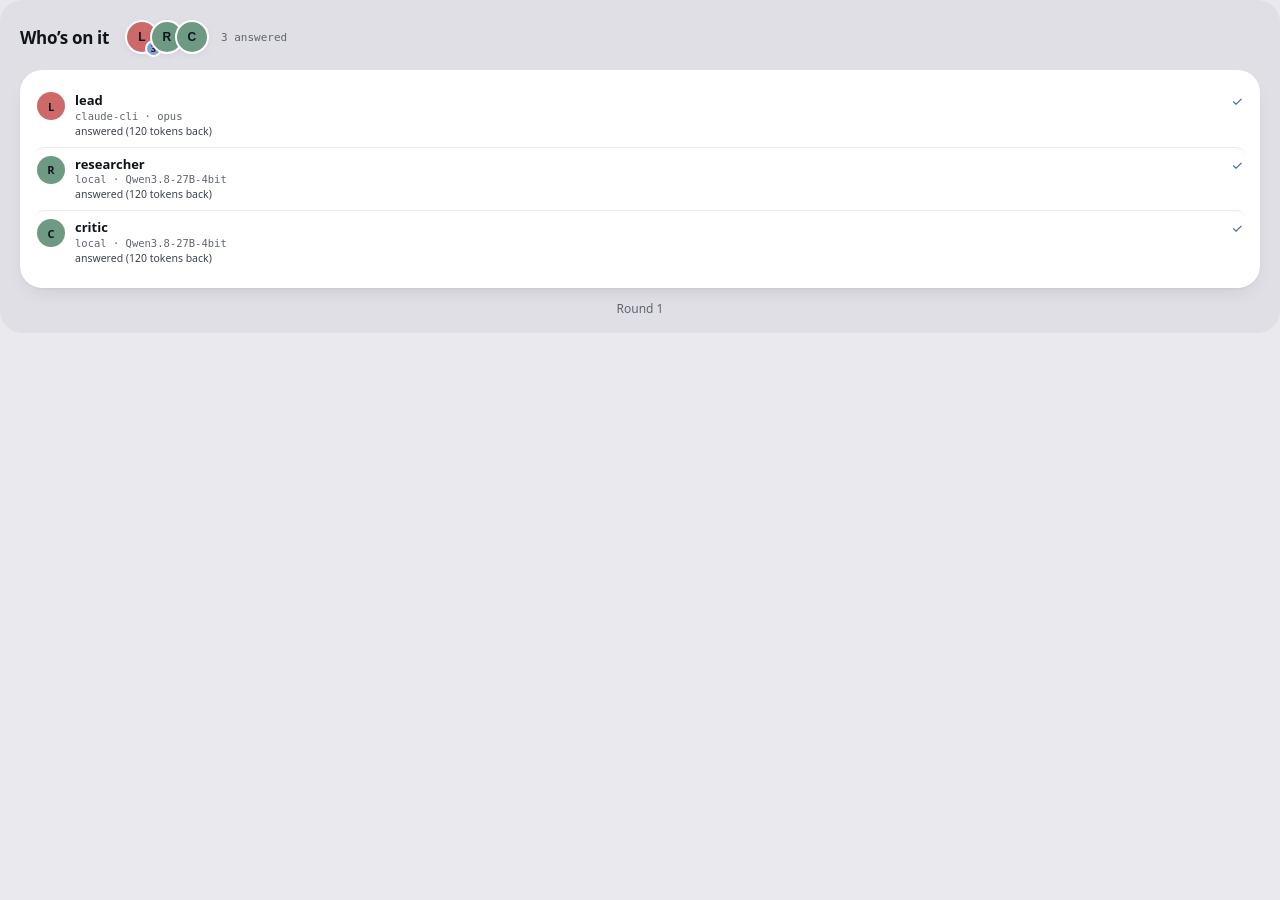
Scenario: clicking a coworker opens what THAT coworker is doing › closes on the close button and on Escape
The image size is (1280, 900).
Click the button named "What critic is doing". click: (196, 37)
box: x1=184 y1=20 x2=209 y2=54
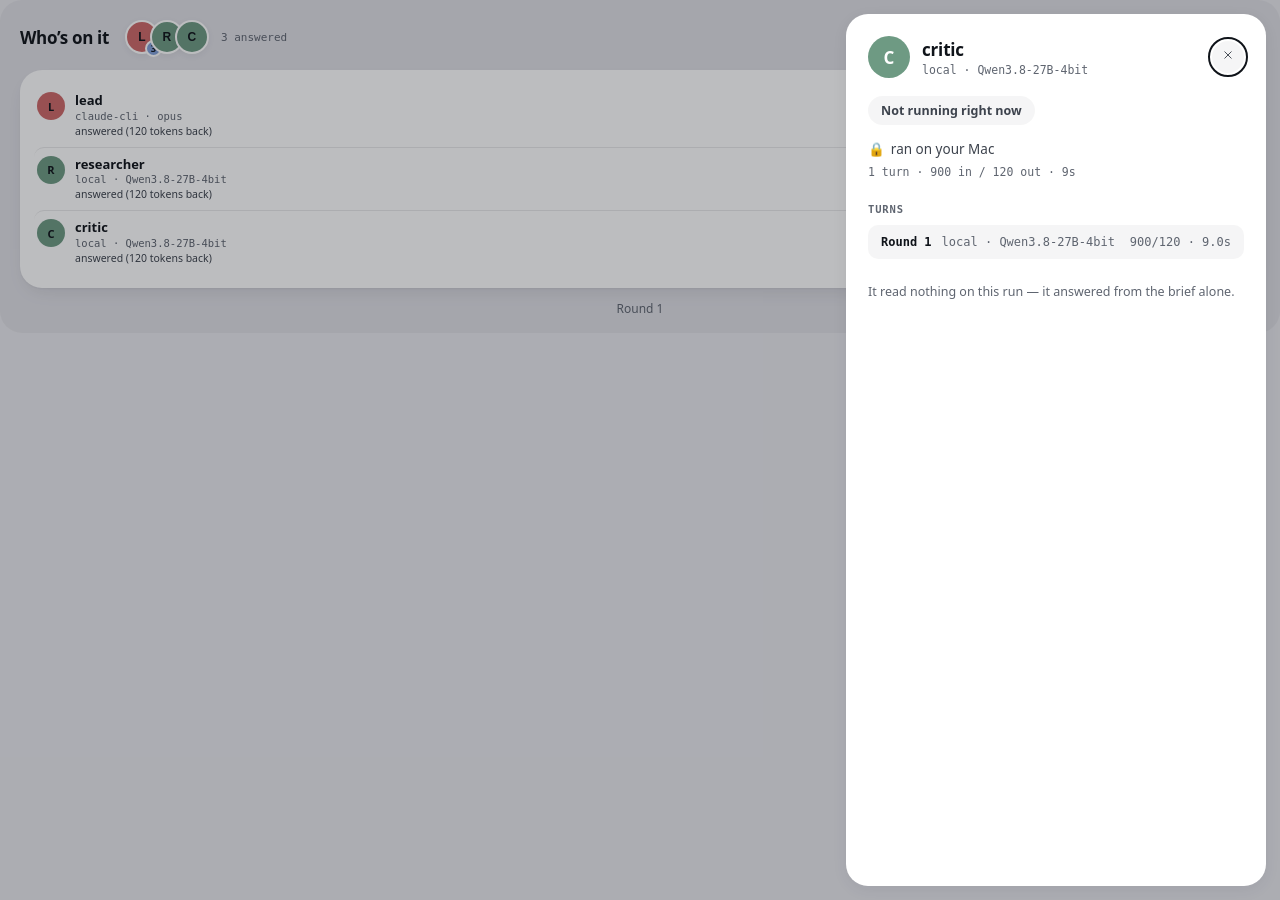
Expected: the dialog is shown
Click the button named "Close". click: (1228, 57)
box: x1=1212 y1=41 x2=1244 y2=73
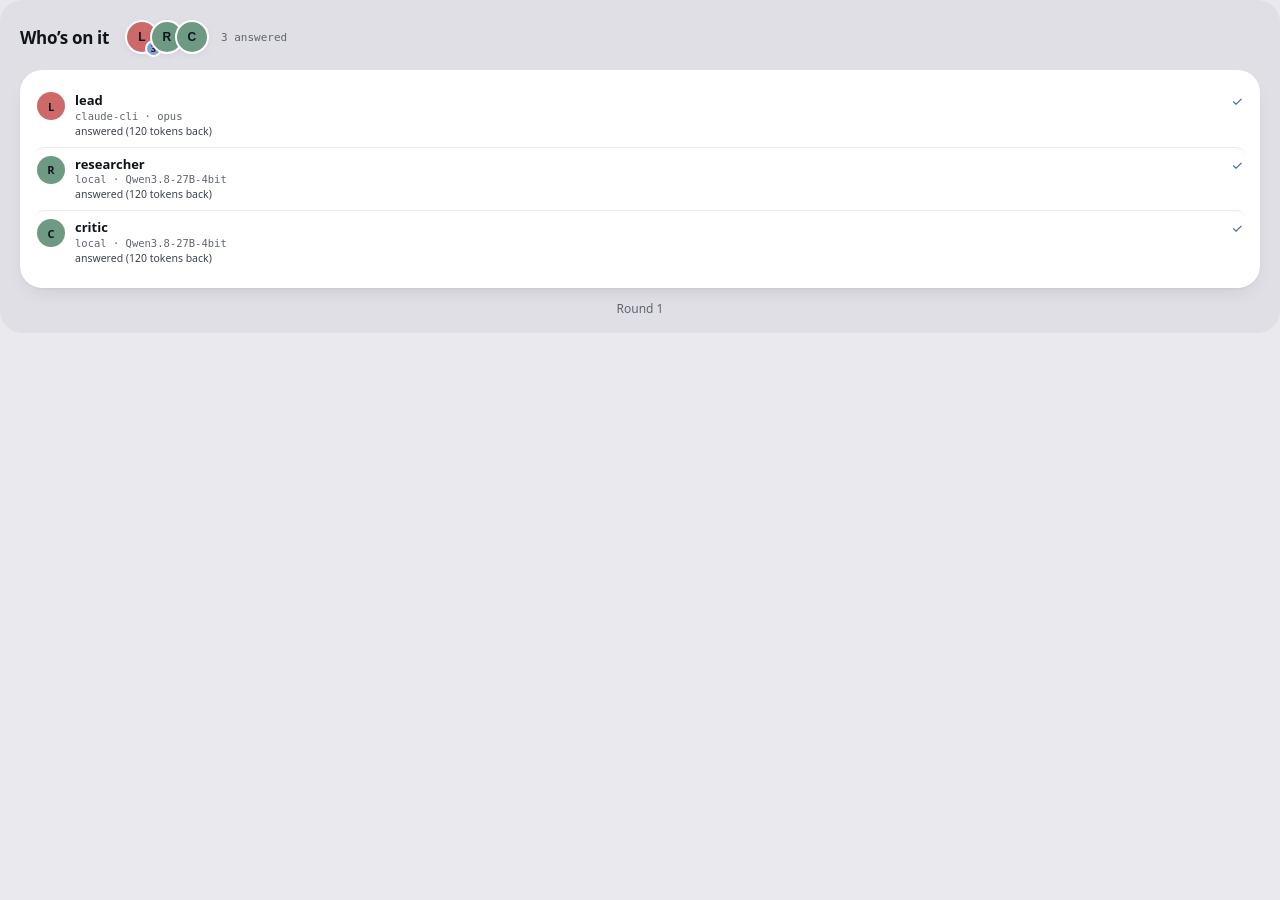
Expected: the dialog is gone
Click the button named "What critic is doing". click: (196, 37)
box: x1=184 y1=20 x2=209 y2=54
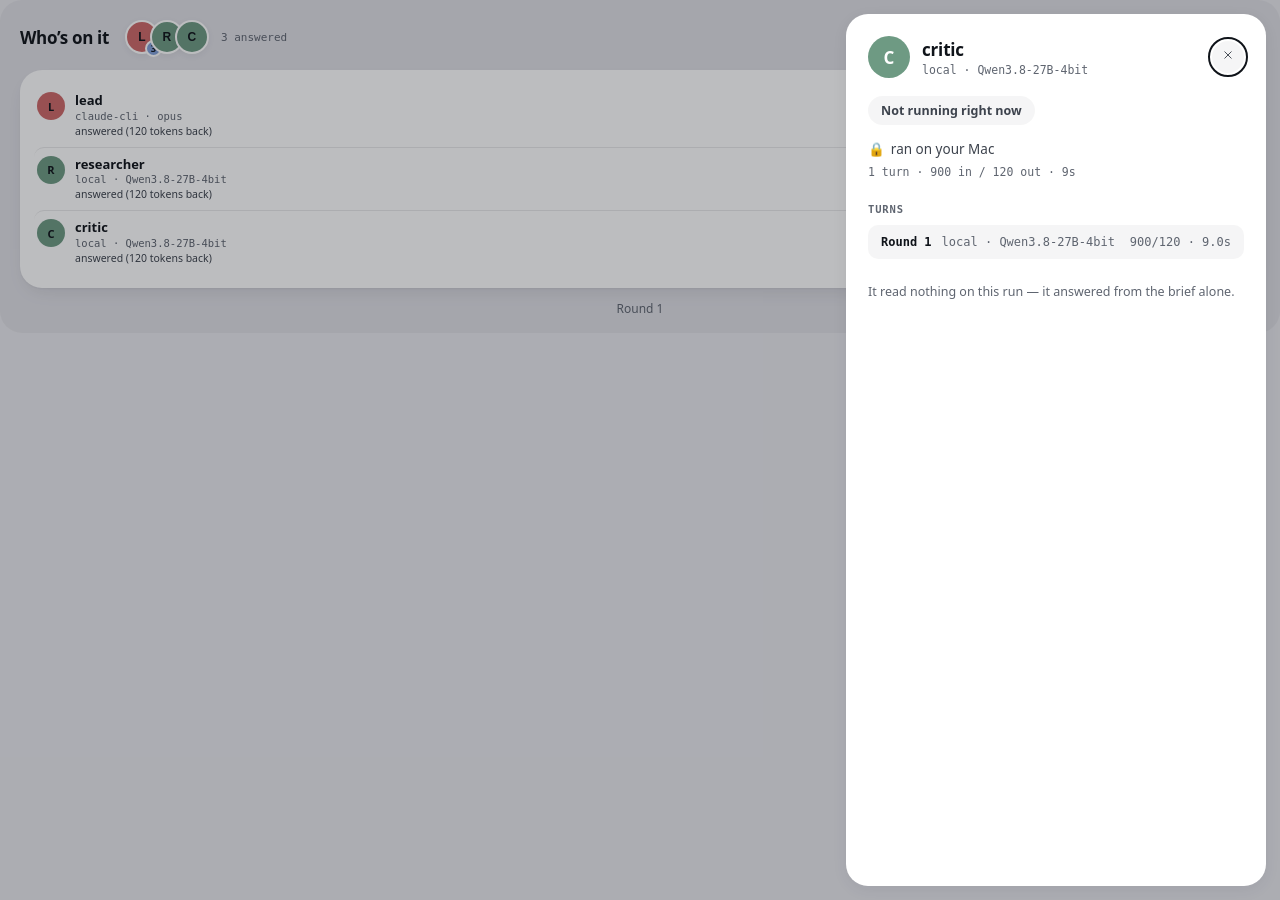
Press Escape
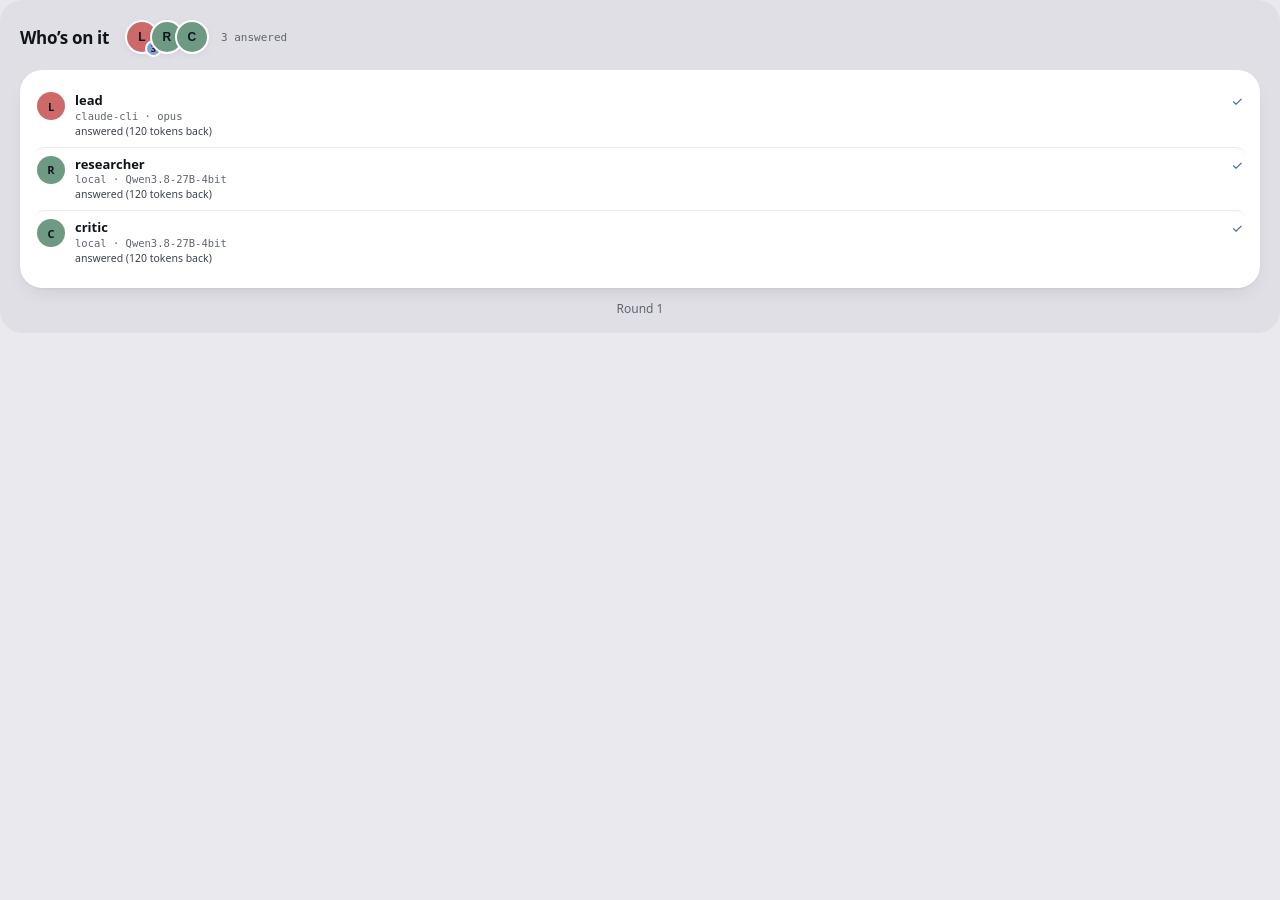
Expected: the dialog is gone
